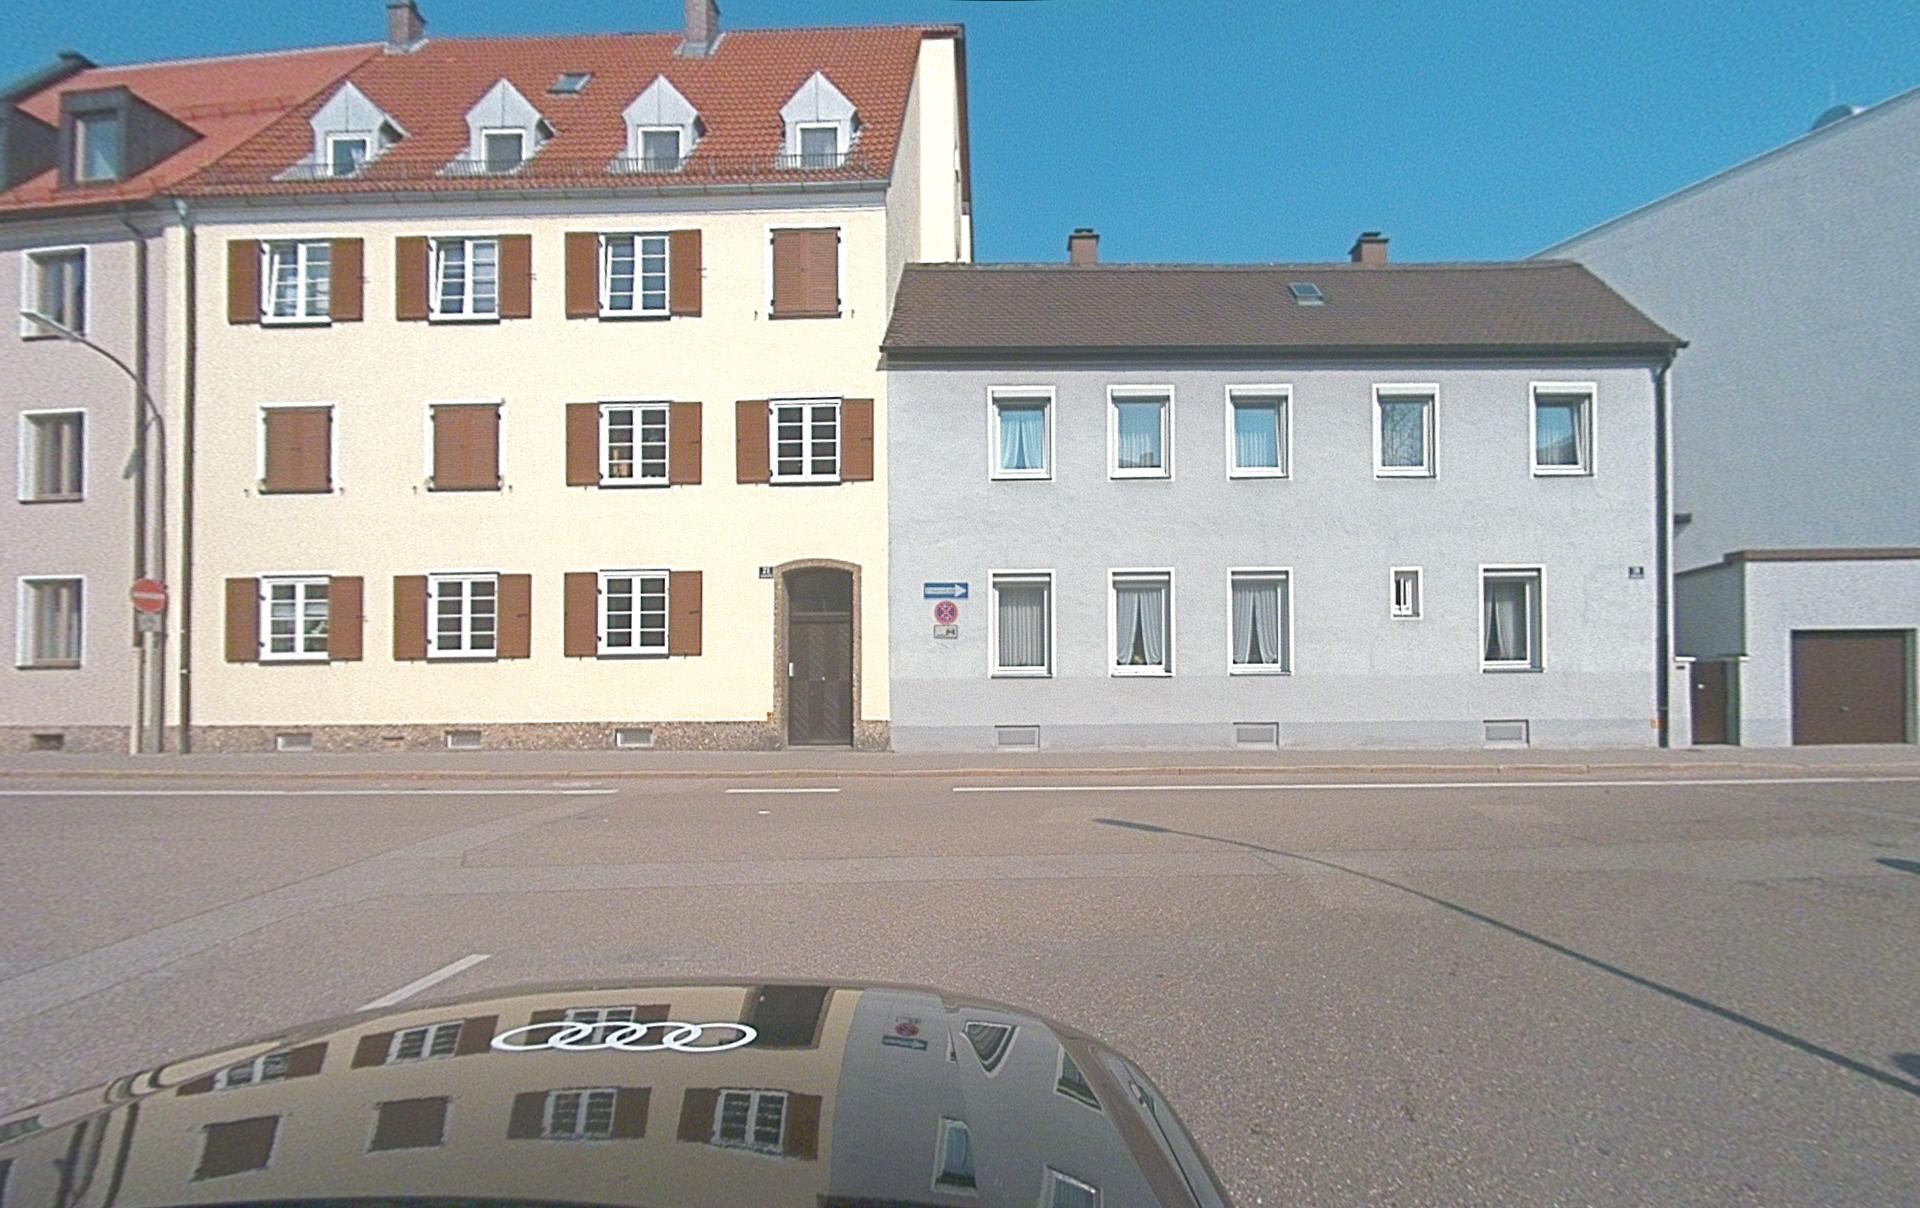car: (1, 979, 1239, 1207)
traffic sign: (130, 577, 168, 615), (922, 581, 969, 599)
